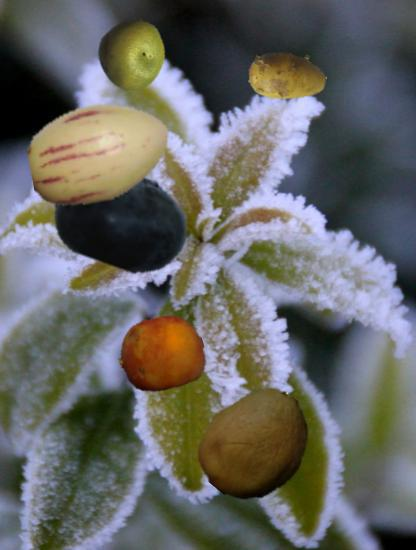Blueberry: (53, 150, 191, 288)
Papaya: (196, 384, 315, 503)
Peach: (119, 311, 205, 397)
Pepino: (29, 81, 174, 226)
Pomelo: (95, 18, 168, 91)
Potato: (248, 36, 327, 115)
